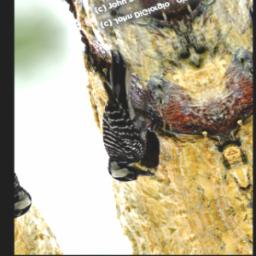Woodpecker: (64, 40, 183, 189)
